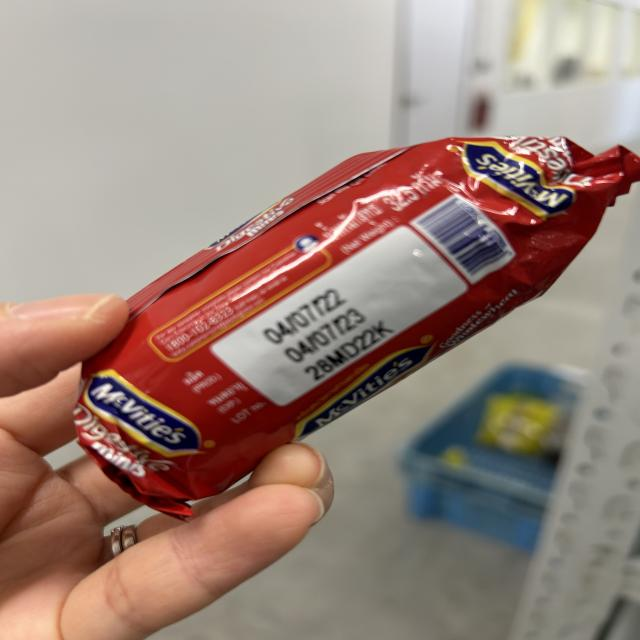object_name: (131, 135, 525, 449)
